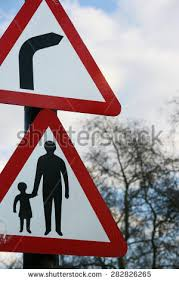Bend_to_right: (1, 1, 124, 117)
